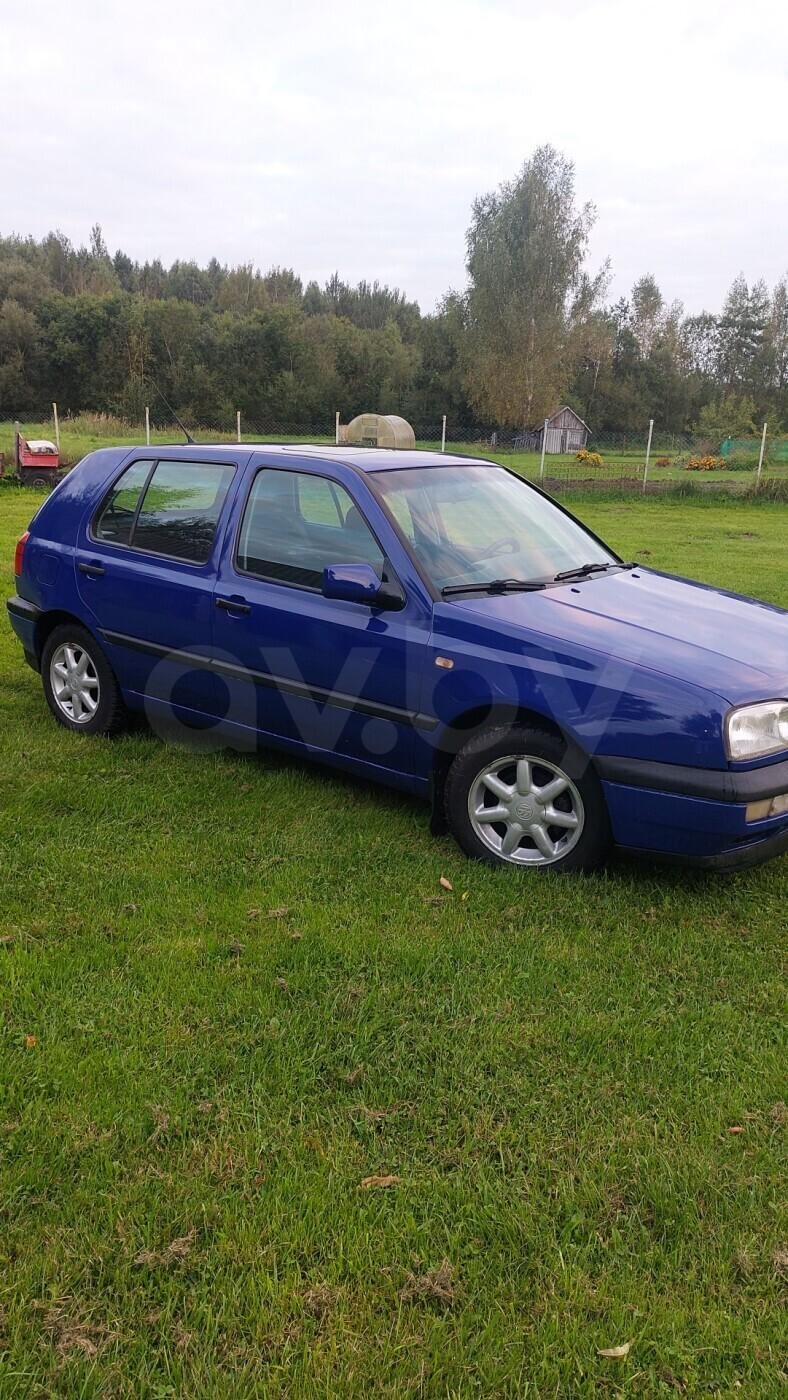Golf_1991-2000: (3, 433, 788, 890)
